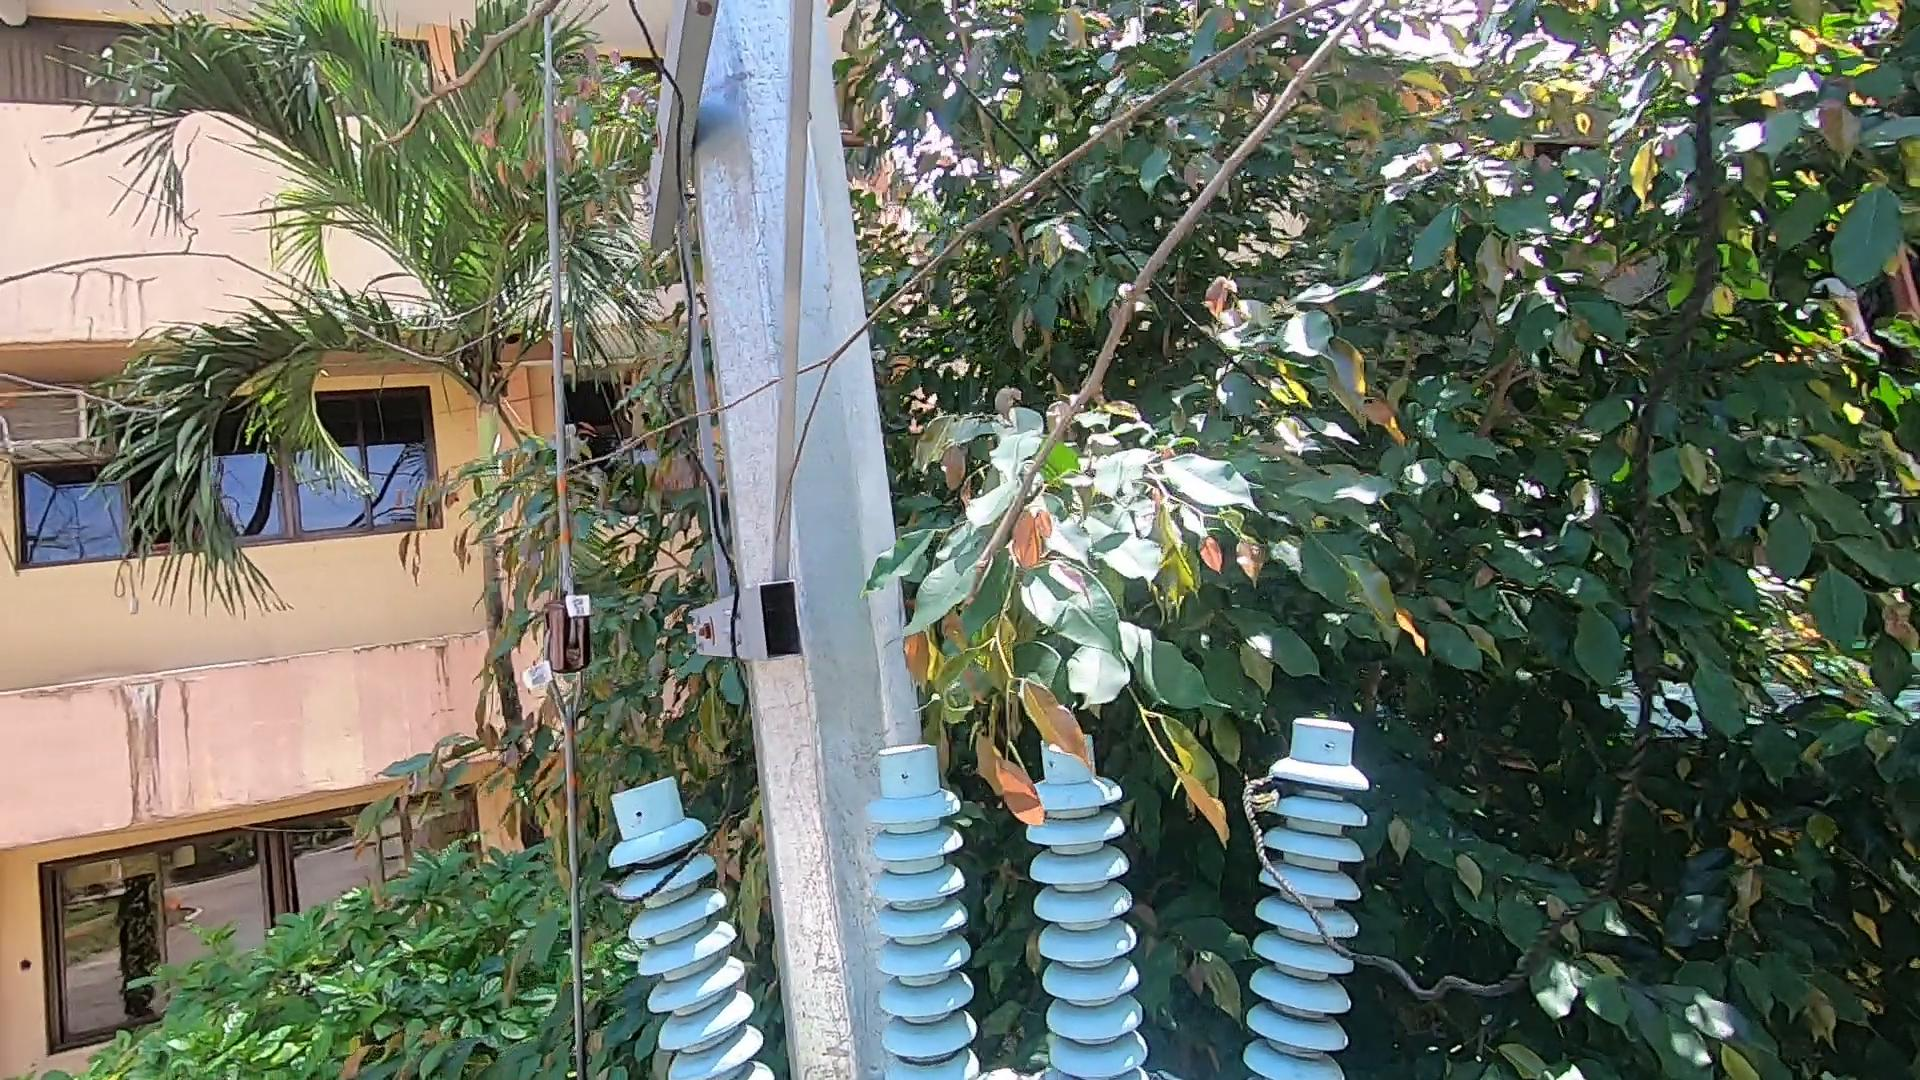branch with leaves: (947, 665, 1126, 832)
tree branch: (487, 185, 1011, 543)
